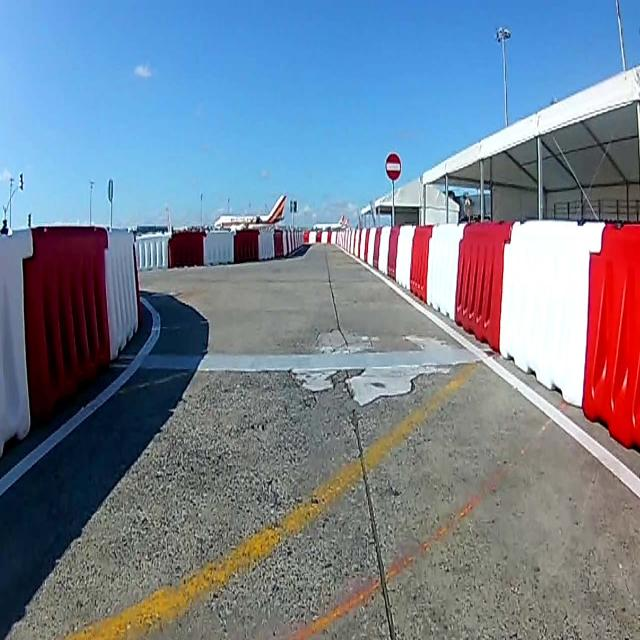girisyok: (385, 152, 401, 180)
